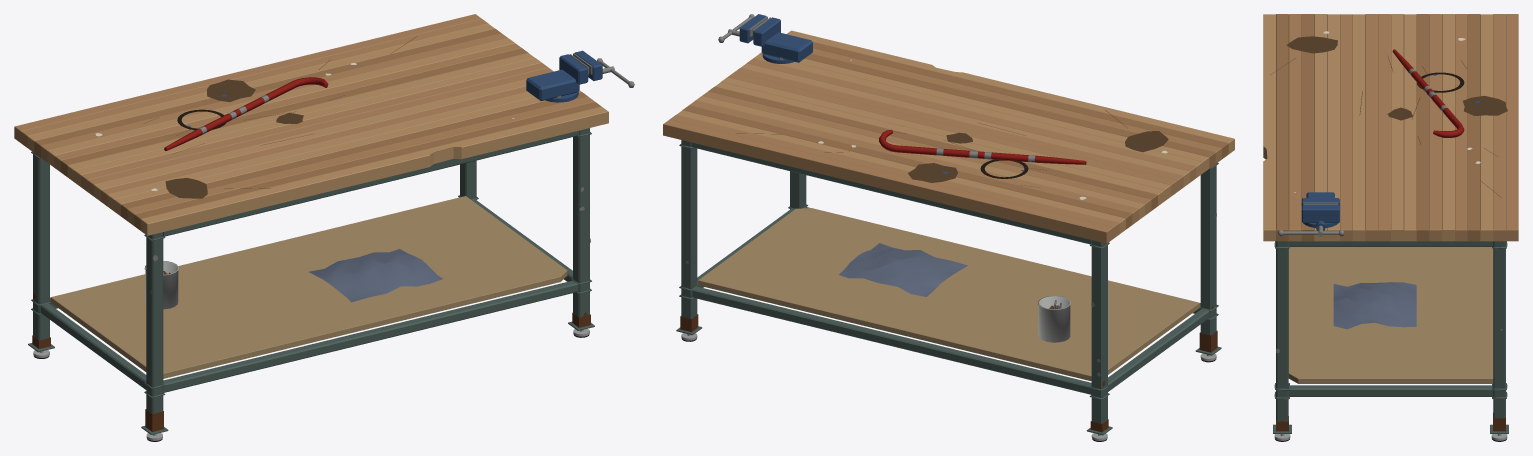
File: work_table.glb
3 views of the same model, side by side, from view 1: azimuth 30°, elevation 25°; view 2: azimuth 150°, elevation 25°; view 3: azimuth 270°, elevation 25° (orthographic). The views are drawn at different scales.
Visible parts, largest first — view 1: werkbank; view 2: werkbank; view 3: werkbank.
Part boxes in pixels (box(x1,y1,x2,y2)): werkbank: box(14, 14, 634, 441); werkbank: box(663, 14, 1234, 441); werkbank: box(1263, 14, 1518, 441).
Size of the model in its own units: 1.72 by 0.845 by 0.8.
